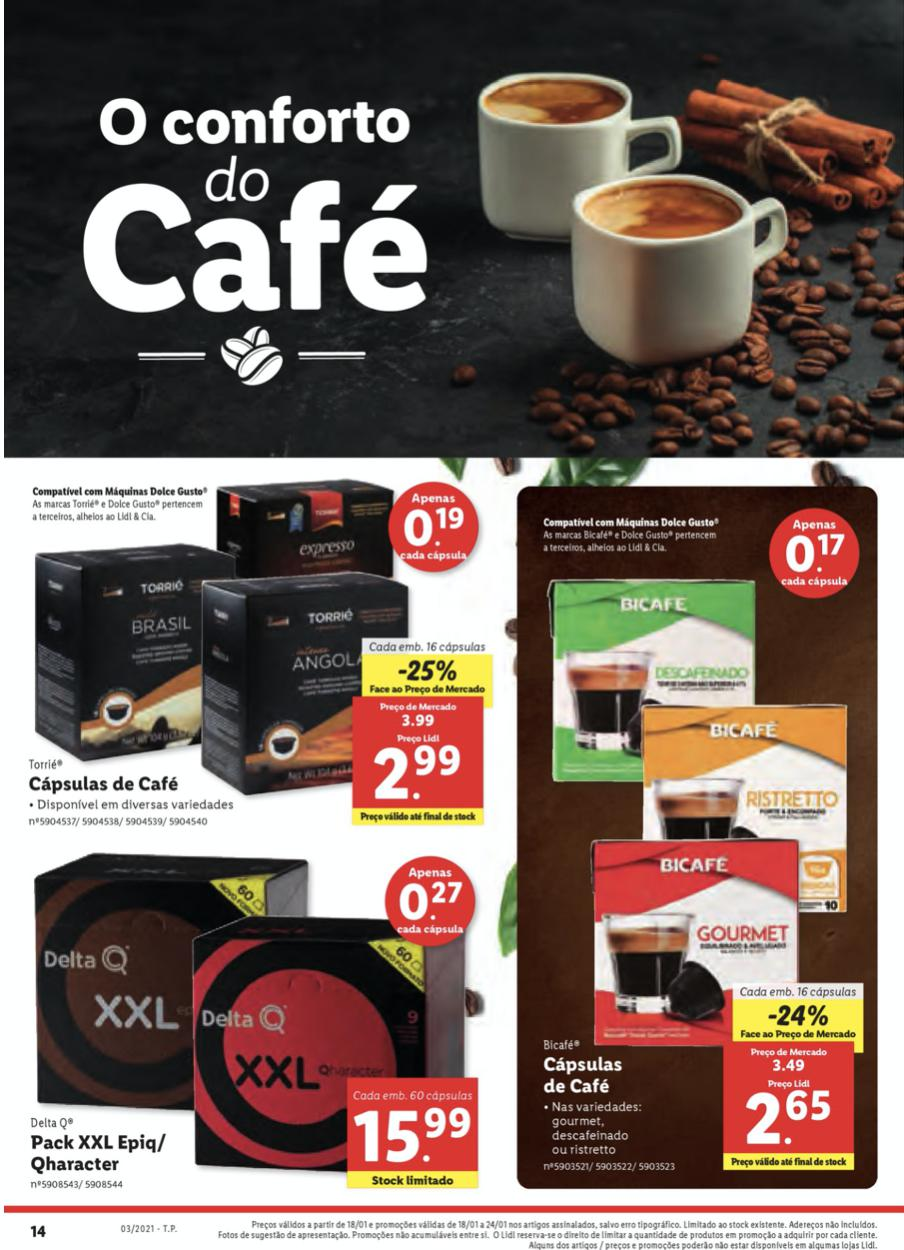name: (27, 1132, 169, 1173), (538, 1056, 624, 1100), (29, 773, 187, 796)
price: (349, 1104, 473, 1167), (360, 740, 469, 806), (740, 1087, 835, 1153)
product: (523, 500, 869, 1195), (10, 470, 501, 833), (16, 853, 490, 1200)
promotion: (766, 1000, 832, 1030), (395, 656, 460, 684)
